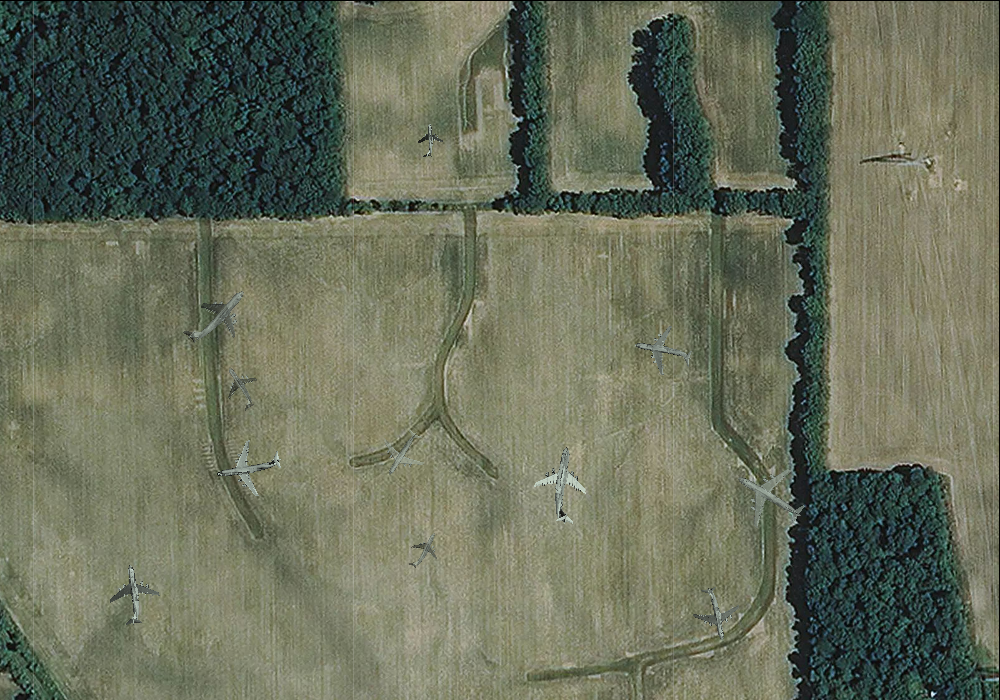plane: (720, 448, 818, 545), (168, 268, 263, 363), (526, 443, 603, 528), (211, 431, 286, 503), (368, 419, 436, 488), (99, 561, 164, 629), (630, 319, 697, 384), (684, 582, 746, 645), (209, 357, 269, 418), (398, 524, 447, 576), (412, 122, 445, 157)
